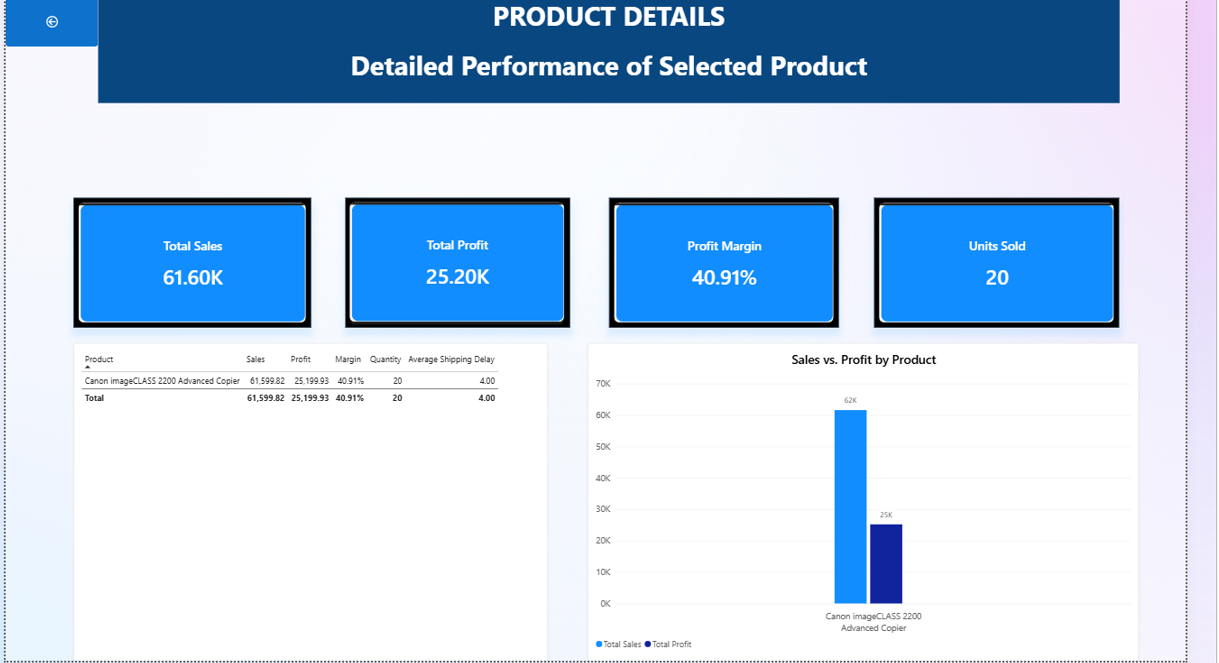

Layout of this report page (visuals, bound fields, positions):
{"tool":"powerbi","page":{"name":"Product Details","canvas":[1920,1080],"ordinal":2},"visuals":[{"type":"actionButton","box":[0,0,150.4,80.7],"z":0},{"type":"cardVisual","fields":{"Data":["Orders.Total Sales"]},"box":[110.1,326.5,387,212.8],"z":1000},{"type":"cardVisual","fields":{"Data":["Orders.Total Profit"]},"box":[552.1,326.5,366.8,212.8],"z":2000},{"type":"cardVisual","fields":{"Data":["Orders.Profit Margin %"]},"box":[981.3,326.5,374.2,212.8],"z":3000},{"type":"cardVisual","fields":{"Data":["Orders.Total Quantity"]},"box":[1412.4,326.5,399.9,212.8],"z":4000},{"type":"textbox","box":[150.4,0,1661.8,80.7],"z":5000},{"type":"textbox","box":[150.4,80.7,1661.8,91.7],"z":6000},{"type":"tableEx","fields":{"Values":["Orders.Product Name","Orders.Total Sales","Orders.Total Profit","Orders.Profit Margin %","Orders.Total Quantity","Orders.Average Shipping Delay"]},"box":[110.1,563.1,772.2,517.3],"z":6001},{"type":"lineClusteredColumnComboChart","title":"Sales vs. Profit by Product","fields":{"Category":["Orders.Product Name"],"Y":["Orders.Total Sales","Orders.Total Profit"]},"box":[946.5,563.1,896.9,517.3],"z":6002}]}

Visuals, with their boxes on the page's 1920x1080 design canvas (x1, y1, x2, y2). These are canvas units, not pixel positions in the 1219x663 screenshot, which may show the page scaled, cropped or inside an application window:
actionButton: bbox=(0, 0, 150, 81)
cardVisual - Orders.Total Sales: bbox=(110, 326, 497, 539)
cardVisual - Orders.Total Profit: bbox=(552, 326, 919, 539)
cardVisual - Orders.Profit Margin %: bbox=(981, 326, 1356, 539)
cardVisual - Orders.Total Quantity: bbox=(1412, 326, 1812, 539)
textbox: bbox=(150, 0, 1812, 81)
textbox: bbox=(150, 81, 1812, 172)
tableEx - Orders.Product Name x Orders.Total Sales: bbox=(110, 563, 882, 1080)
"Sales vs. Profit by Product" lineClusteredColumnComboChart: bbox=(946, 563, 1843, 1080)
